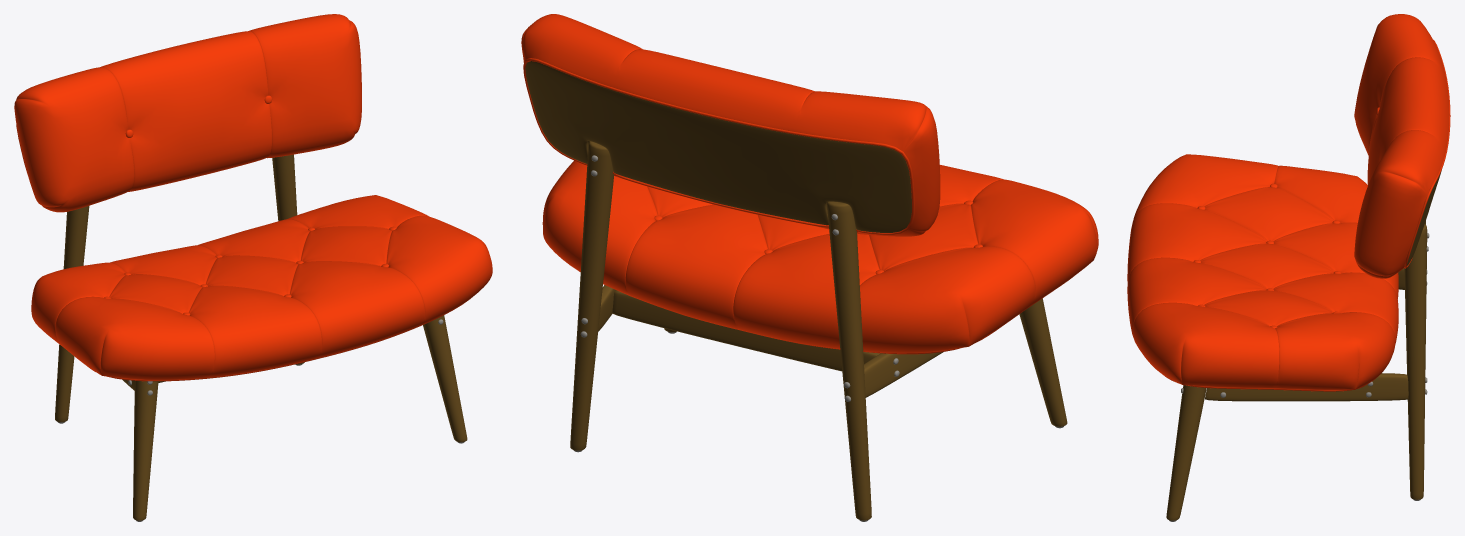
The model's file is chair.glb.
The picture shows the model from 3 angles, left to right: view 1: azimuth 30°, elevation 25°; view 2: azimuth 150°, elevation 25°; view 3: azimuth 270°, elevation 25°; orthographic projection. The views are drawn at different scales.
Parts seen in each view (by area): view 1: SheenChair_fabric, SheenChair_wood; view 2: SheenChair_fabric, SheenChair_wood; view 3: SheenChair_fabric, SheenChair_wood.
Boxes of the visible parts, box(x1,y1,x2,y2) form: SheenChair_fabric: box(14, 14, 492, 381); SheenChair_wood: box(55, 154, 467, 520); SheenChair_fabric: box(521, 14, 1098, 354); SheenChair_wood: box(525, 61, 1067, 520); SheenChair_fabric: box(1127, 14, 1450, 391); SheenChair_wood: box(1166, 170, 1441, 520).
Size of the model in its own units: 0.8266 by 0.6863 by 0.5702.
